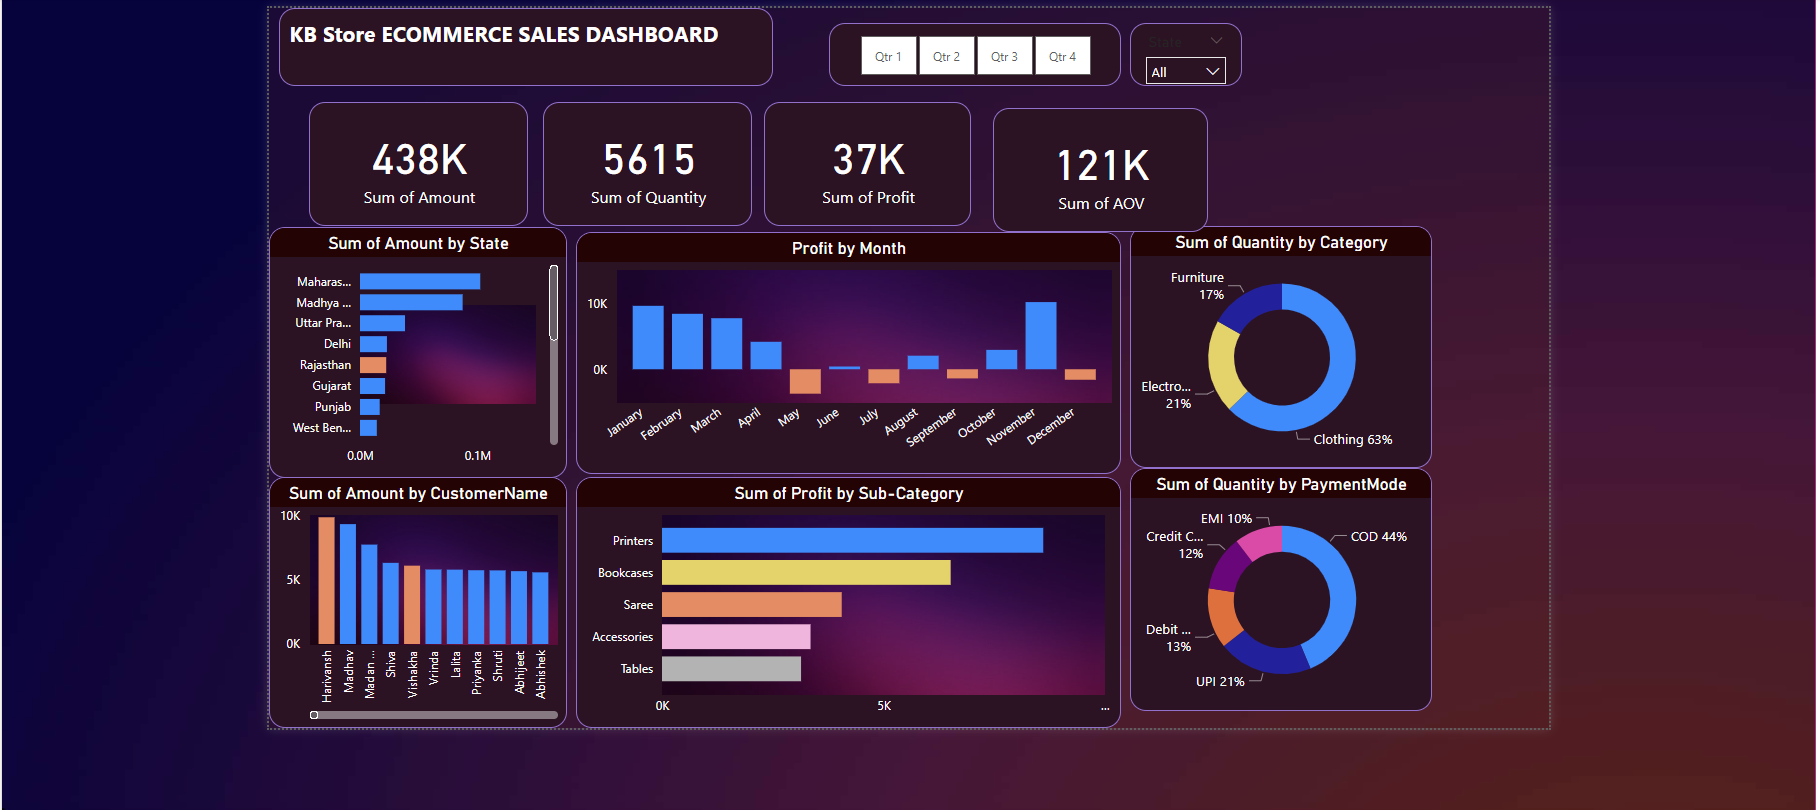

Layout of this report page (visuals, bound fields, positions):
{"tool":"powerbi","page":{"name":"Page 1","canvas":[1280,720],"ordinal":0},"visuals":[{"type":"textbox","box":[9.8,0,493.9,78.2],"z":0},{"type":"columnChart","title":"Profit by Month","fields":{"Category":["Orders.Order Date.Variation.Date Hierarchy.Month"],"Y":["Details.Profit"]},"box":[306.8,223.7,545.2,242],"z":1000},{"type":"barChart","fields":{"Category":["Details.Sub-Category"],"Y":["Details.Profit"]},"box":[306.8,469.4,545.2,250.6],"z":2000},{"type":"donutChart","fields":{"Category":["Details.Category"],"Y":["Details.Quantity"]},"box":[860.6,217.6,301.9,242],"z":3000},{"type":"donutChart","fields":{"Category":["Details.PaymentMode"],"Y":["Details.Quantity"]},"box":[860.6,459.6,301.9,243.3],"z":4000},{"type":"card","fields":{"Values":["Details.Amount"]},"box":[40.3,94.1,218.8,123.5],"z":5000},{"type":"card","fields":{"Values":["Details.Profit"]},"box":[495.1,94.1,206.6,123.5],"z":6000},{"type":"card","fields":{"Values":["Details.Quantity"]},"box":[273.8,94.1,209,123.5],"z":7000},{"type":"card","fields":{"Values":["Details.AOV"]},"box":[723.7,100.2,215.1,123.5],"z":8000},{"type":"barChart","fields":{"Category":["Orders.State"],"Y":["Details.Amount"]},"box":[0,219.4,298.4,250.2],"z":9000},{"type":"columnChart","fields":{"Category":["Orders.CustomerName"],"Y":["Details.Amount"]},"box":[0,469,298,251],"z":10000},{"type":"slicer","fields":{"Values":["Orders.Order Date.Variation.Date Hierarchy.Quarter"]},"box":[559.9,14.7,292.2,63.6],"z":11000},{"type":"slicer","fields":{"Values":["Orders.State"]},"box":[860.6,14.7,112.5,63.6],"z":12000}]}

Visuals, with their boxes on the page's 1280x720 design canvas (x1, y1, x2, y2). These are canvas units, not pixel positions in the 1820x810 screenshot, which may show the page scaled, cropped or inside an application window:
textbox: bbox(10, 0, 504, 78)
"Profit by Month" columnChart: bbox(307, 224, 852, 466)
barChart - Details.Sub-Category x Details.Profit: bbox(307, 469, 852, 720)
donutChart - Details.Category x Details.Quantity: bbox(861, 218, 1162, 460)
donutChart - Details.PaymentMode x Details.Quantity: bbox(861, 460, 1162, 703)
card - Details.Amount: bbox(40, 94, 259, 218)
card - Details.Profit: bbox(495, 94, 702, 218)
card - Details.Quantity: bbox(274, 94, 483, 218)
card - Details.AOV: bbox(724, 100, 939, 224)
barChart - Orders.State x Details.Amount: bbox(0, 219, 298, 470)
columnChart - Orders.CustomerName x Details.Amount: bbox(0, 469, 298, 720)
slicer - Orders.Order Date.Variation.Date Hierarchy.Quarter: bbox(560, 15, 852, 78)
slicer - Orders.State: bbox(861, 15, 973, 78)
